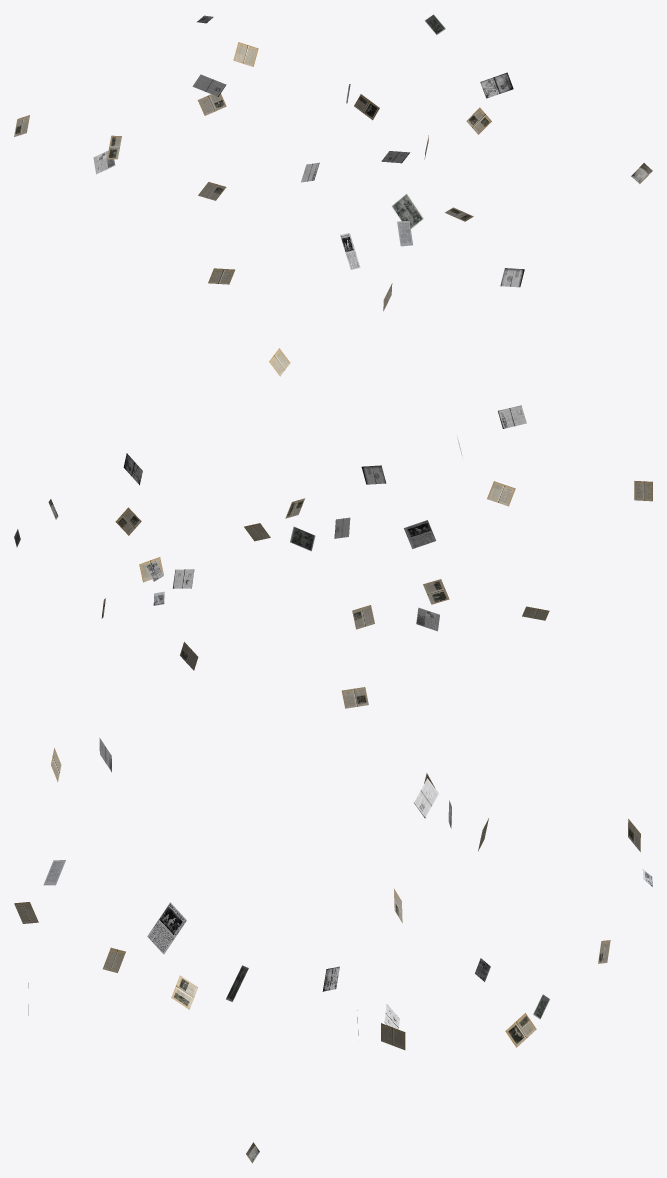
The model's file is world_middle_nonclick_articles.gltf.
3 views of the same model, one above another, from view 1: azimuth 30°, elevation 25°; view 2: azimuth 150°, elevation 25°; view 3: azimuth 270°, elevation 25° (orthographic). The views are drawn at different scales.
Parts seen in each view (by area): view 1: article.016, article.003; view 2: article.010, article.005, article.019, article.020, article.024; view 3: article.010.
Boxes of the visible parts, box(x1,y1,x2,y2) form: article.016: box(391, 193, 424, 229); article.003: box(480, 72, 513, 98); article.010: box(404, 520, 435, 548); article.005: box(498, 405, 526, 428); article.019: box(487, 481, 515, 506); article.020: box(341, 687, 368, 708); article.024: box(423, 579, 449, 604); article.010: box(147, 902, 186, 954).
Bounding box in the file's own units: 31 × 11.73 × 27.58.
25 materials, 25 textured.
